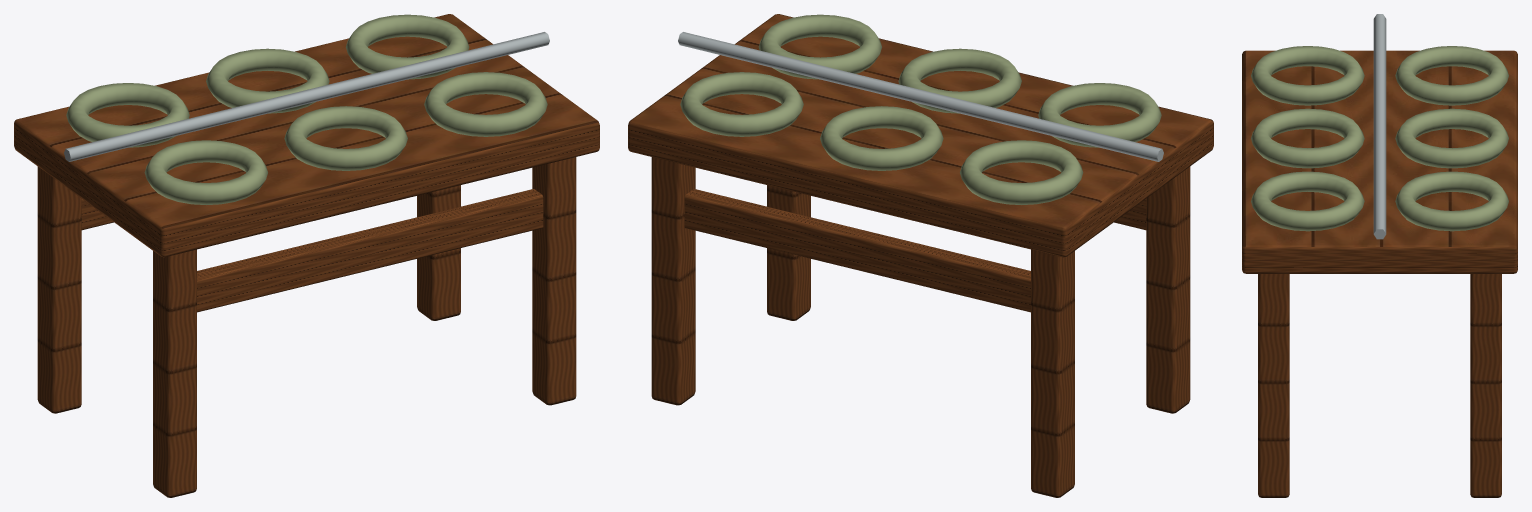
File: creature-husbandry-and-transport-egg-turning-rack-c1512b65__24006.glb
3 views of the same model, side by side, from view 1: azimuth 30°, elevation 25°; view 2: azimuth 150°, elevation 25°; view 3: azimuth 270°, elevation 25° (orthographic). The views are drawn at different scales.
Visible parts, largest first — view 1: egg-turning-rack; view 2: egg-turning-rack; view 3: egg-turning-rack.
Part boxes in pixels (box(x1,y1,x2,y2)): egg-turning-rack: box(14, 14, 599, 497); egg-turning-rack: box(628, 14, 1213, 497); egg-turning-rack: box(1242, 14, 1517, 497).
Size of the model in its own units: 1.2 by 0.7429 by 0.65.
3 materials, 1 textured.
